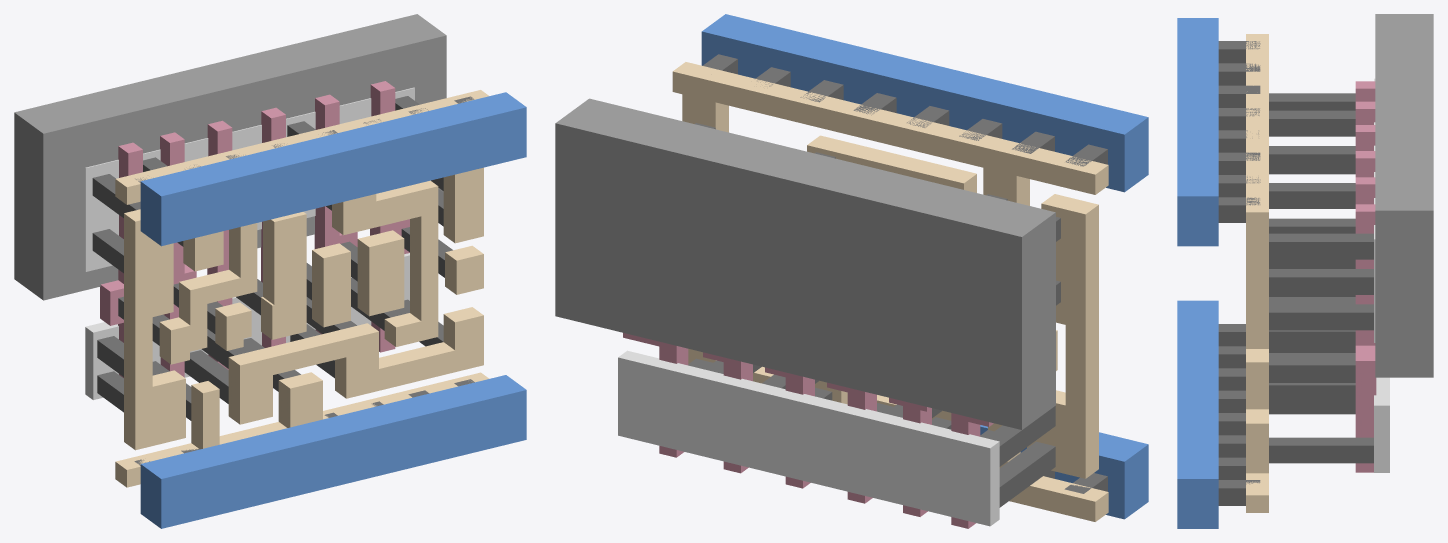
Rendered from sky130_fd_sc_hd__o32a_1.gds.gltf.
The picture shows the model from 3 angles, left to right: view 1: azimuth 30°, elevation 25°; view 2: azimuth 150°, elevation 25°; view 3: azimuth 270°, elevation 25°; orthographic projection. The views are drawn at different scales.
Parts seen in each view (by area): view 1: sky130_fd_sc_hd__o32a_1_li1, sky130_fd_sc_hd__o32a_1_met1, sky130_fd_sc_hd__o32a_1_nwell, sky130_fd_sc_hd__o32a_1_licon, sky130_fd_sc_hd__o32a_1_poly, sky130_fd_sc_hd__o32a_1_diff, sky130_fd_sc_hd__o32a_1_mcon; view 2: sky130_fd_sc_hd__o32a_1_nwell, sky130_fd_sc_hd__o32a_1_li1, sky130_fd_sc_hd__o32a_1_diff, sky130_fd_sc_hd__o32a_1_met1, sky130_fd_sc_hd__o32a_1_licon, sky130_fd_sc_hd__o32a_1_mcon, sky130_fd_sc_hd__o32a_1_poly; view 3: sky130_fd_sc_hd__o32a_1_licon, sky130_fd_sc_hd__o32a_1_nwell, sky130_fd_sc_hd__o32a_1_met1, sky130_fd_sc_hd__o32a_1_mcon, sky130_fd_sc_hd__o32a_1_li1, sky130_fd_sc_hd__o32a_1_poly, sky130_fd_sc_hd__o32a_1_diff.
Boxes of the visible parts, x1,y1,x2,y2 form: sky130_fd_sc_hd__o32a_1_li1: (115, 90, 489, 487); sky130_fd_sc_hd__o32a_1_met1: (140, 92, 526, 528); sky130_fd_sc_hd__o32a_1_nwell: (14, 14, 446, 300); sky130_fd_sc_hd__o32a_1_licon: (92, 96, 452, 420); sky130_fd_sc_hd__o32a_1_poly: (100, 81, 409, 377); sky130_fd_sc_hd__o32a_1_diff: (85, 87, 414, 399); sky130_fd_sc_hd__o32a_1_mcon: (134, 96, 474, 465); sky130_fd_sc_hd__o32a_1_nwell: (555, 98, 1055, 429); sky130_fd_sc_hd__o32a_1_li1: (672, 62, 1108, 521); sky130_fd_sc_hd__o32a_1_diff: (618, 350, 999, 526); sky130_fd_sc_hd__o32a_1_met1: (701, 14, 1148, 519); sky130_fd_sc_hd__o32a_1_licon: (688, 123, 1060, 507); sky130_fd_sc_hd__o32a_1_mcon: (703, 54, 1107, 493); sky130_fd_sc_hd__o32a_1_poly: (623, 333, 993, 528); sky130_fd_sc_hd__o32a_1_licon: (1269, 93, 1373, 463); sky130_fd_sc_hd__o32a_1_nwell: (1375, 14, 1433, 377); sky130_fd_sc_hd__o32a_1_met1: (1177, 18, 1218, 528); sky130_fd_sc_hd__o32a_1_mcon: (1218, 41, 1260, 505); sky130_fd_sc_hd__o32a_1_li1: (1246, 34, 1268, 512); sky130_fd_sc_hd__o32a_1_poly: (1355, 81, 1376, 472); sky130_fd_sc_hd__o32a_1_diff: (1374, 78, 1389, 472).
Bounding box in the file's own units: 4.06 × 3.2 × 2.24.
